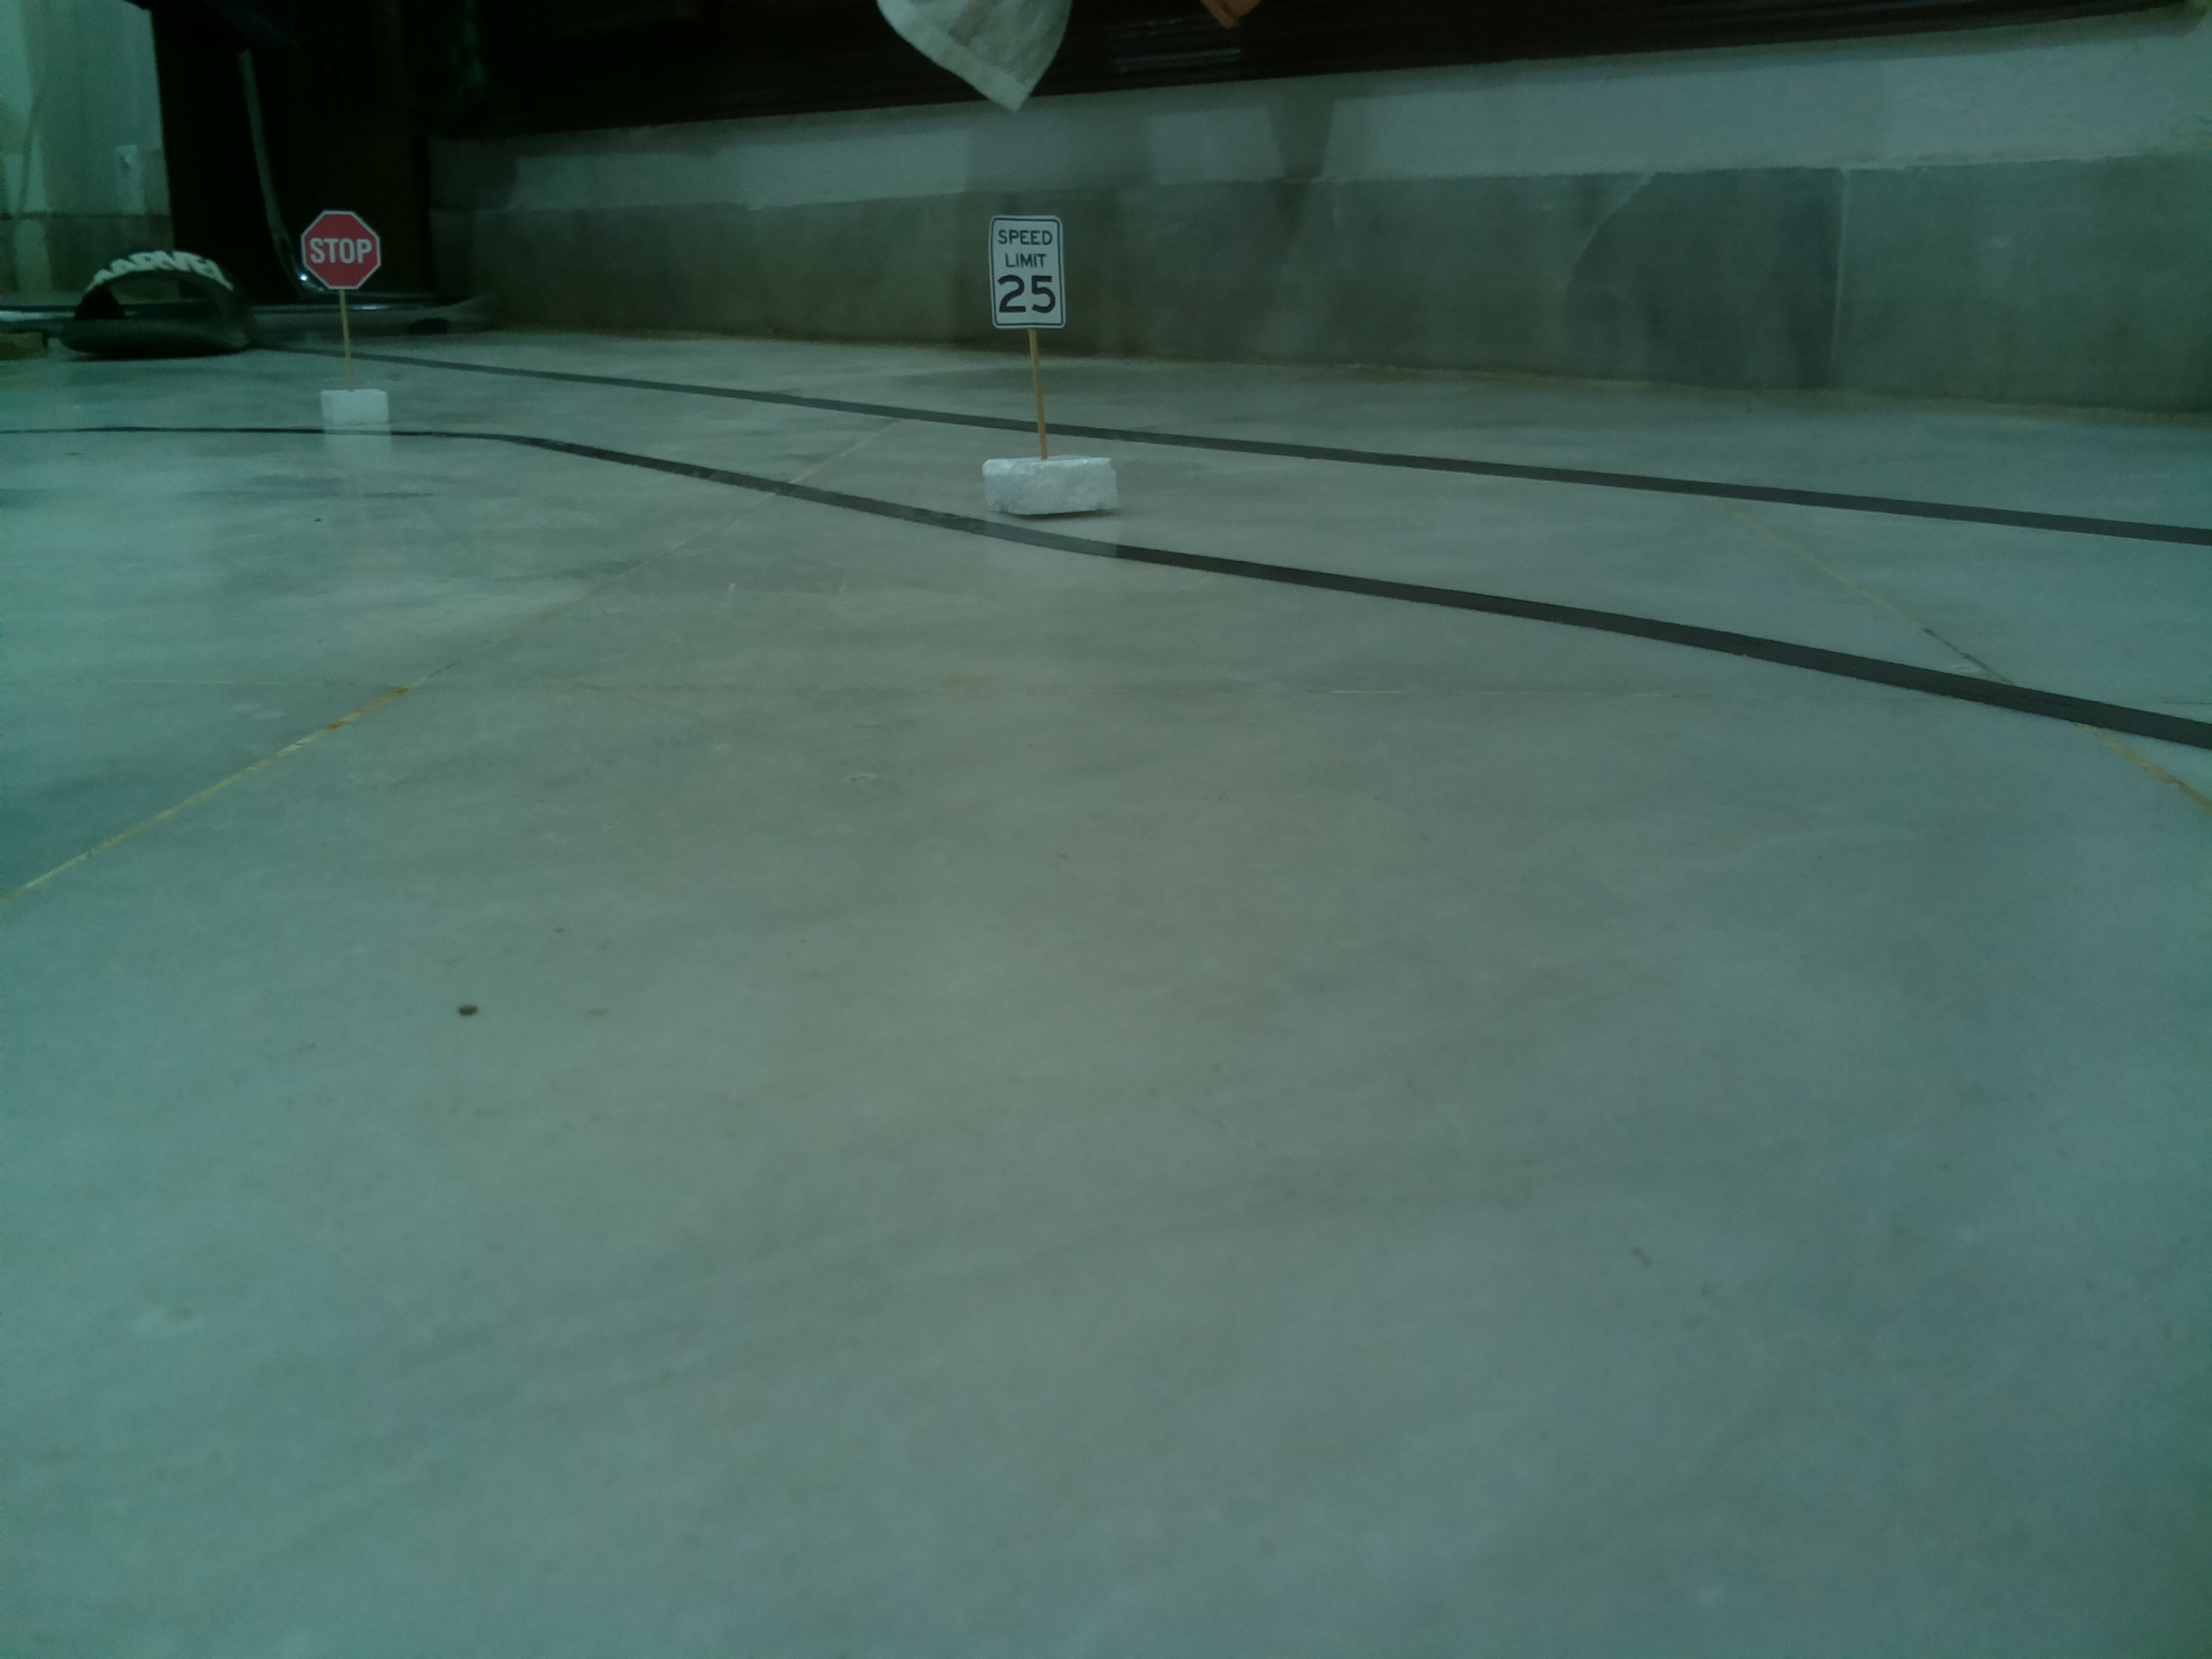Speed limit 25: (984, 211, 1073, 331)
Stop sign: (296, 209, 385, 291)
